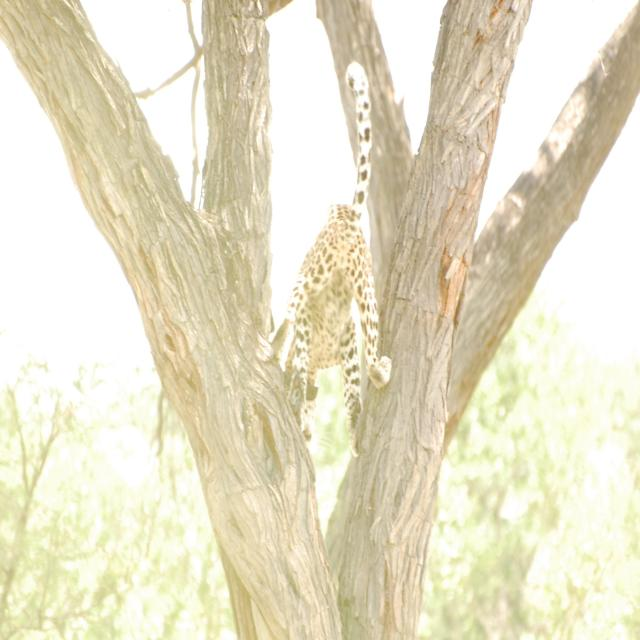Leopard: (261, 163, 388, 454)
